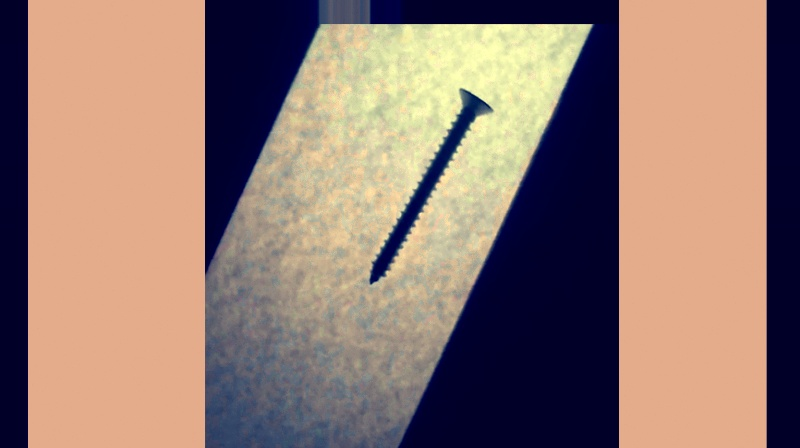S002: (366, 83, 495, 287)
